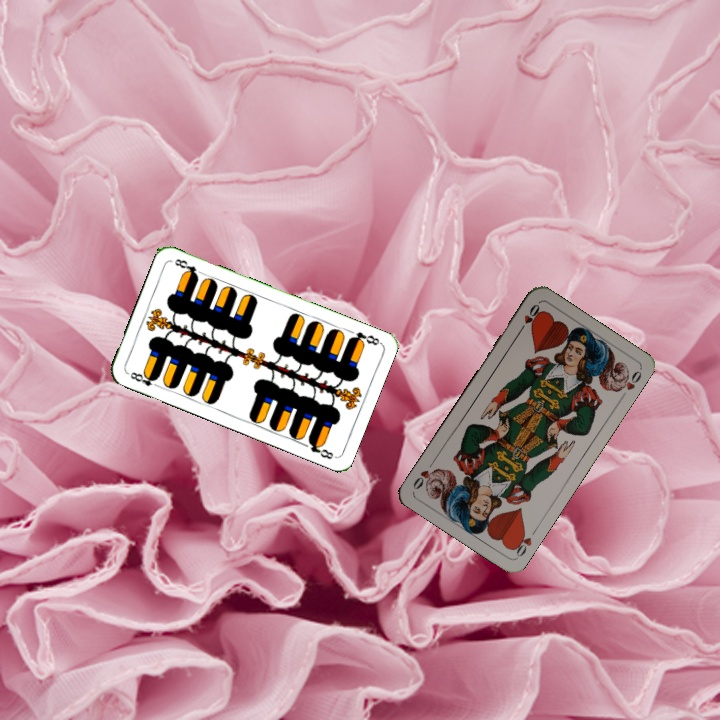E8: (124, 368, 162, 390), (345, 328, 383, 348)
HO: (508, 524, 540, 560), (515, 300, 543, 336)
